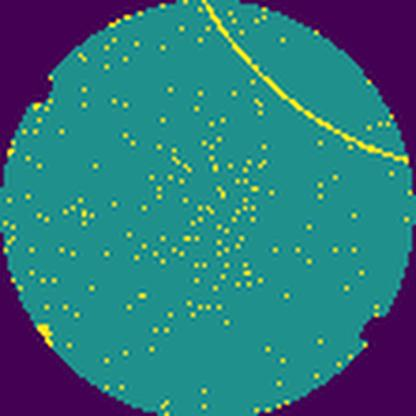Scratch: (201, 0, 409, 164)
